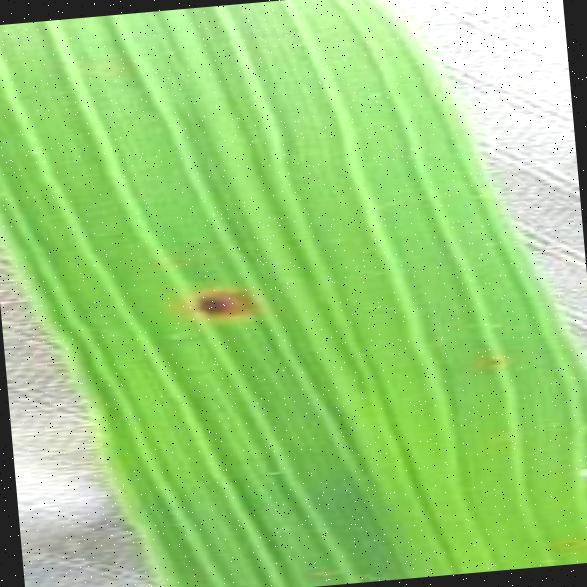Brown_Spot: (174, 270, 274, 329), (550, 532, 583, 552), (483, 350, 506, 370)
